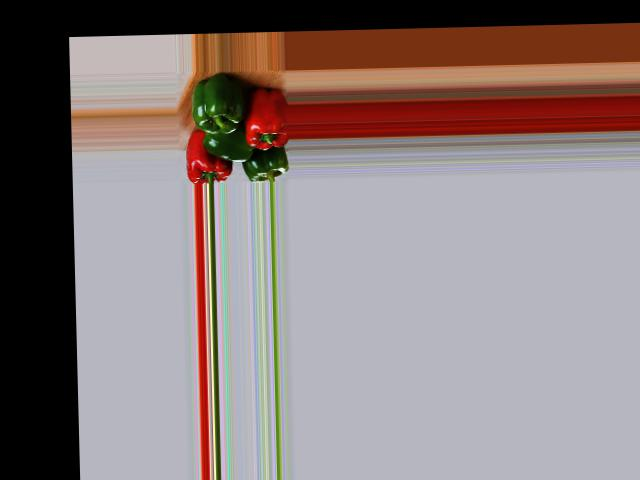bell_pepper: (241, 81, 288, 148)
